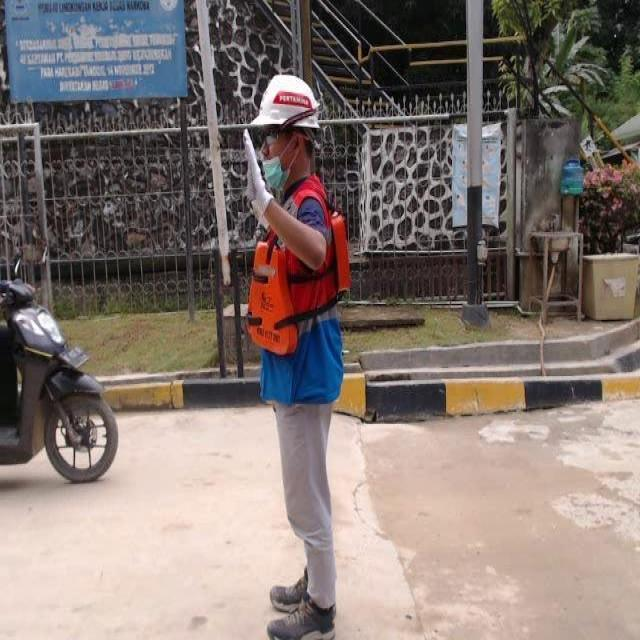Vest: (240, 211, 356, 353)
